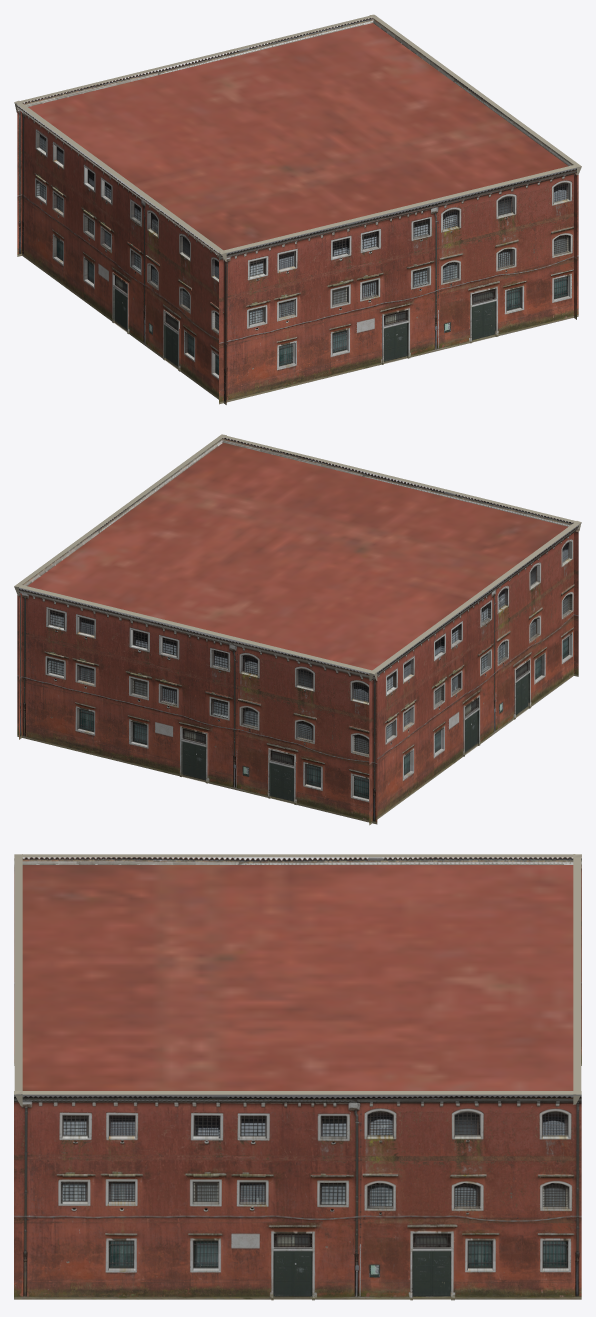
3 renders of one model, top to bottom at view 1: azimuth 30°, elevation 25°; view 2: azimuth 150°, elevation 25°; view 3: azimuth 270°, elevation 25°, orthographic. The views are drawn at different scales.
Parts seen in each view (by area): view 1: Plane_0; view 2: Plane_0; view 3: Plane_0.
Part boxes in pixels (x1=…): Plane_0: x1=14, y1=14, x2=581, y2=404; Plane_0: x1=14, y1=434, x2=581, y2=825; Plane_0: x1=14, y1=854, x2=581, y2=1300.
Size of the model in its own units: 2.47 by 1 by 2.46.
Materials: 2 (2 with a texture image).
